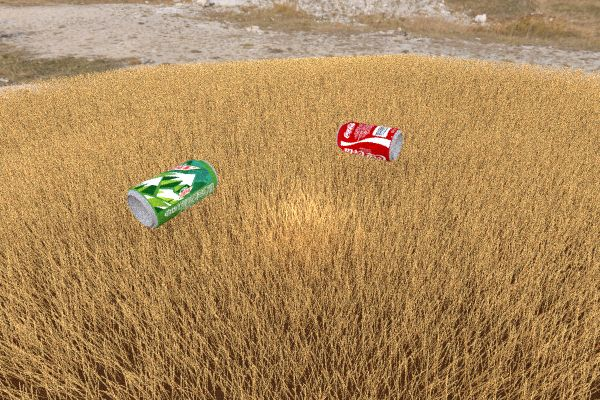Plastic Bottle: (126, 159, 218, 228), (95, 116, 186, 151), (335, 121, 402, 161)
